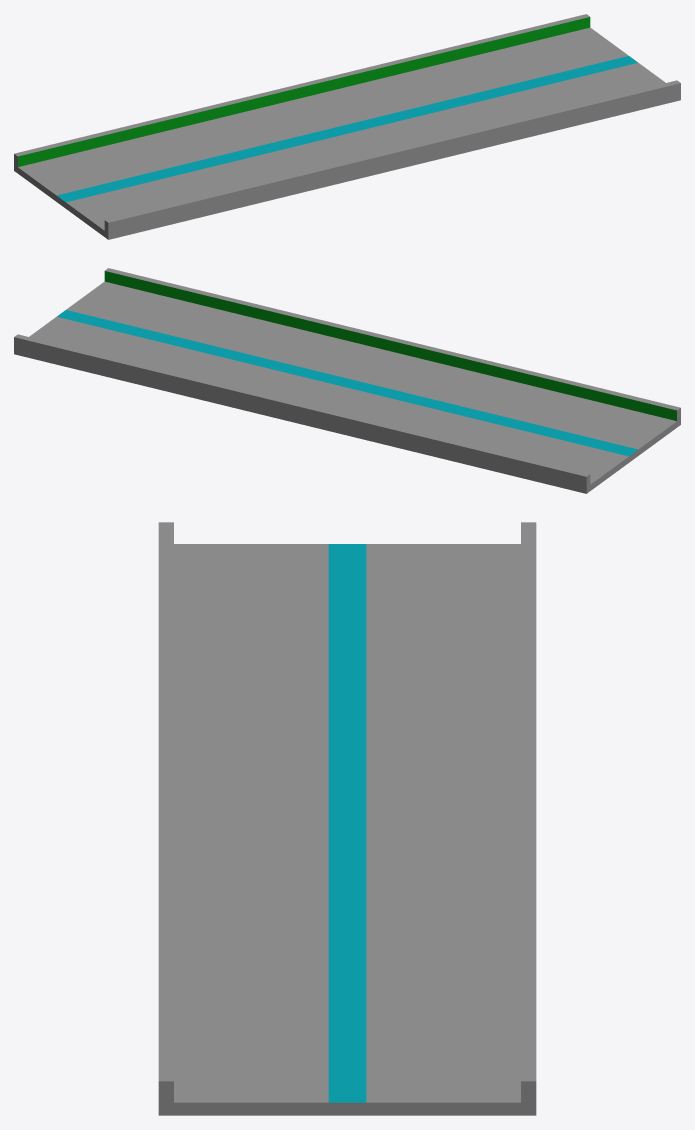
File: mesh_road_straight_01.FBX
The picture shows the model from 3 angles, top to bottom: view 1: azimuth 30°, elevation 25°; view 2: azimuth 150°, elevation 25°; view 3: azimuth 270°, elevation 25°; orthographic projection. The views are drawn at different scales.
Parts seen in each view (by area): view 1: Box001; view 2: Box001; view 3: Box001.
Boxes of the visible parts, x1,y1,x2,y2 form: Box001: (14, 14, 680, 239); Box001: (14, 268, 680, 493); Box001: (158, 522, 536, 1115).
Bounding box in the file's own units: 140 × 4 × 40.
